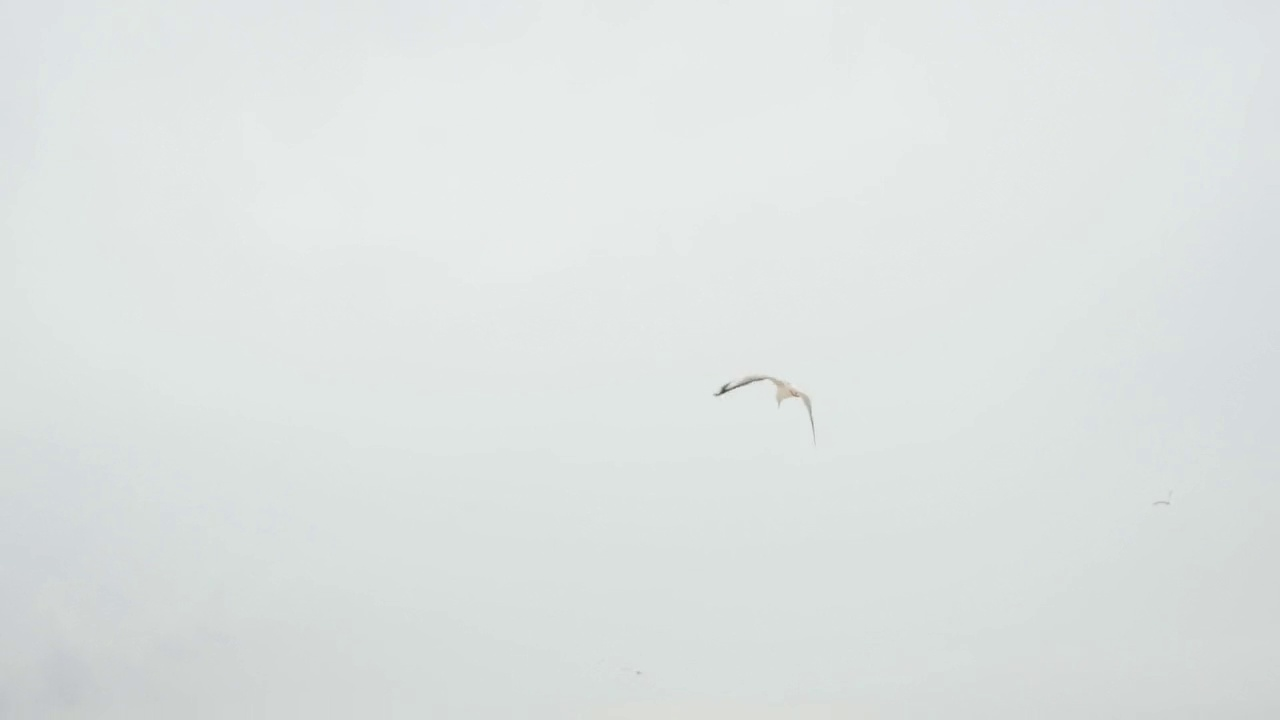bird: (712, 373, 816, 440)
